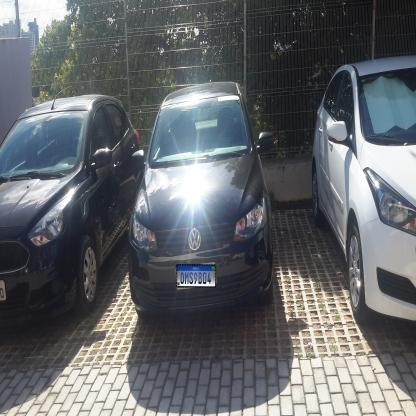PlacaM: (176, 264, 216, 288)
